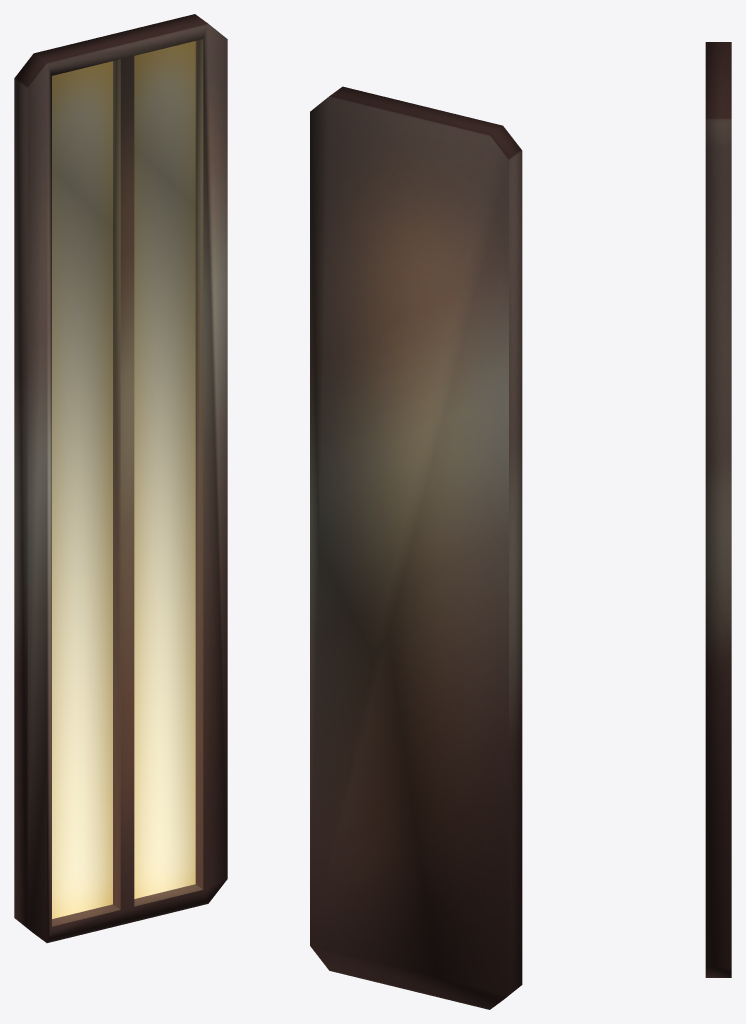
The model's file is LightPanel_White.fbx.
3 renders of one model, left to right at view 1: azimuth 30°, elevation 25°; view 2: azimuth 150°, elevation 25°; view 3: azimuth 270°, elevation 25°, orthographic. The views are drawn at different scales.
Parts seen in each view (by area): view 1: Frame_WhiteLight; view 2: Frame_WhiteLight; view 3: Frame_WhiteLight.
Part boxes in pixels (x1,y1,x2,y2): Frame_WhiteLight: (14,14,227,942); Frame_WhiteLight: (310,86,522,1009); Frame_WhiteLight: (705,42,731,977).
Size of the model in its own units: 102 by 458 by 61.99.
